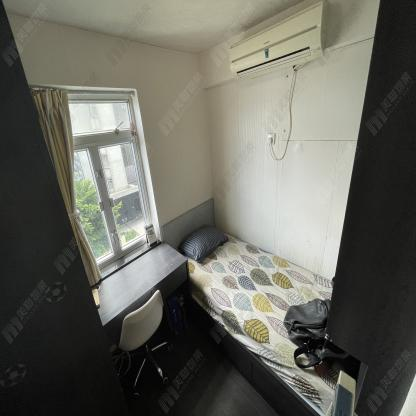AC: (229, 0, 331, 82)
Bed: (174, 229, 362, 416)
Desk: (90, 242, 191, 347)
